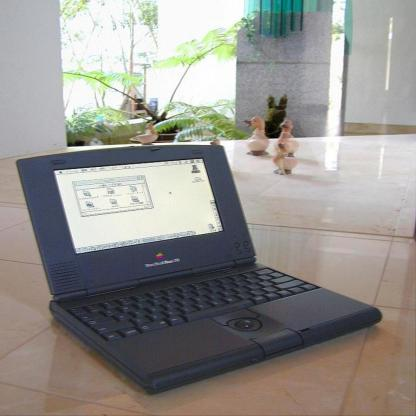board: (13, 145, 380, 394)
